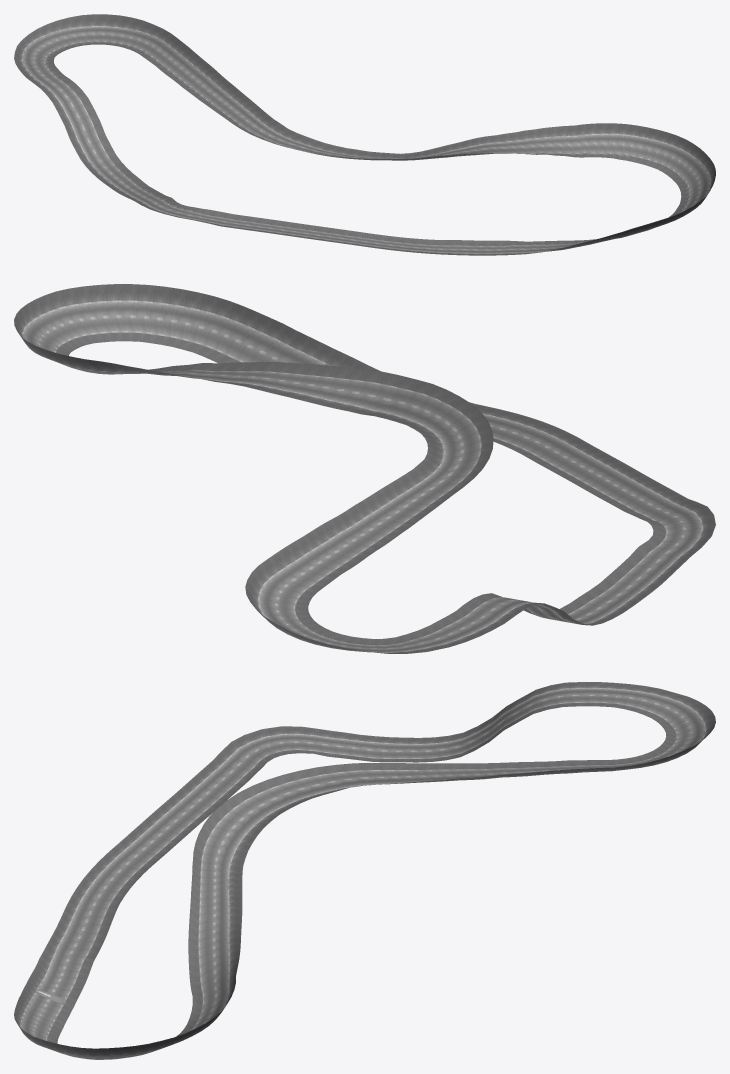
The model's file is road.obj.
3 views of the same model, one above another, from view 1: azimuth 30°, elevation 25°; view 2: azimuth 150°, elevation 25°; view 3: azimuth 270°, elevation 25° (orthographic). The views are drawn at different scales.
Parts seen in each view (by area): view 1: road; view 2: road; view 3: road.
Part boxes in pixels (box(x1,y1,x2,y2)): road: box(14, 14, 715, 255); road: box(14, 284, 715, 653); road: box(14, 682, 715, 1059).
Size of the model in its own units: 142 by 27.71 by 140.
Materials: 1 (1 with a texture image).
